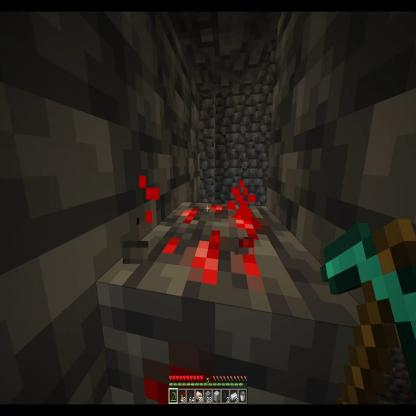redstone ore: (97, 201, 289, 416)
